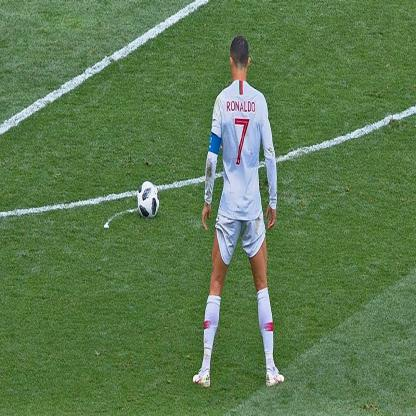football player standing: (204, 32, 288, 384)
